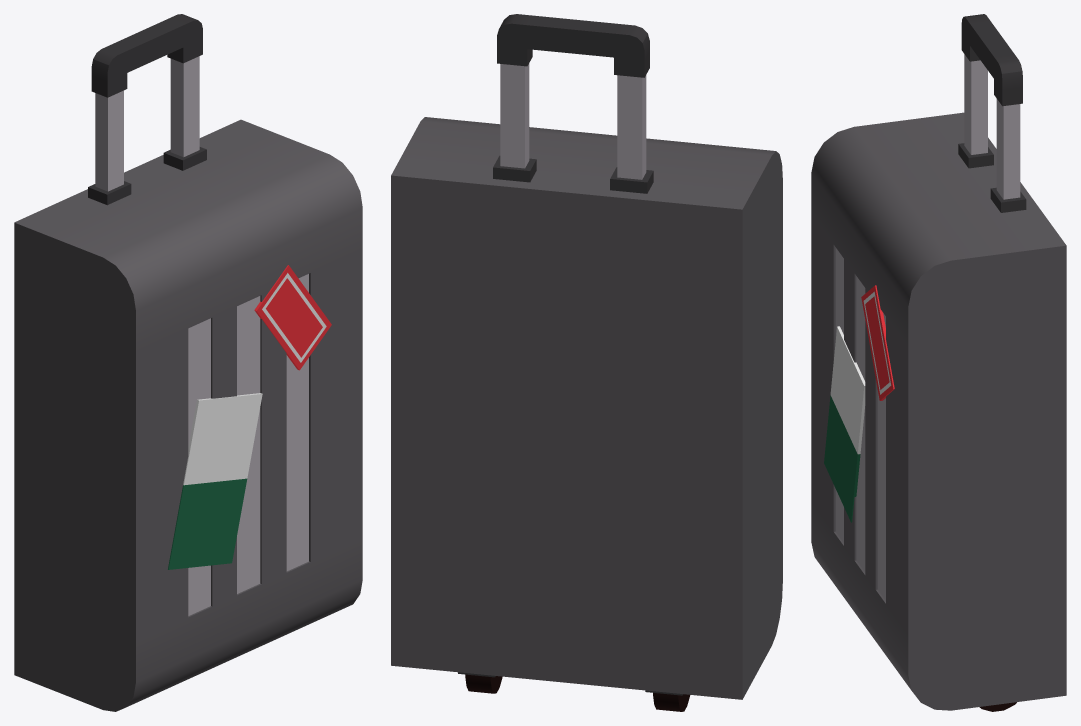
The model's file is Luggage.gltf.
3 views of the same model, side by side, from view 1: azimuth 30°, elevation 25°; view 2: azimuth 150°, elevation 25°; view 3: azimuth 270°, elevation 25° (orthographic). The views are drawn at different scales.
Visible parts, largest first — view 1: Cube.6102; view 2: Cube.6102; view 3: Cube.6102.
Boxes of the visible parts, x1=… form: Cube.6102: x1=14, y1=14, x2=362, y2=711; Cube.6102: x1=391, y1=14, x2=782, y2=711; Cube.6102: x1=811, y1=14, x2=1066, y2=711.
Size of the model in its own units: 1.09 by 2.08 by 0.7657.
